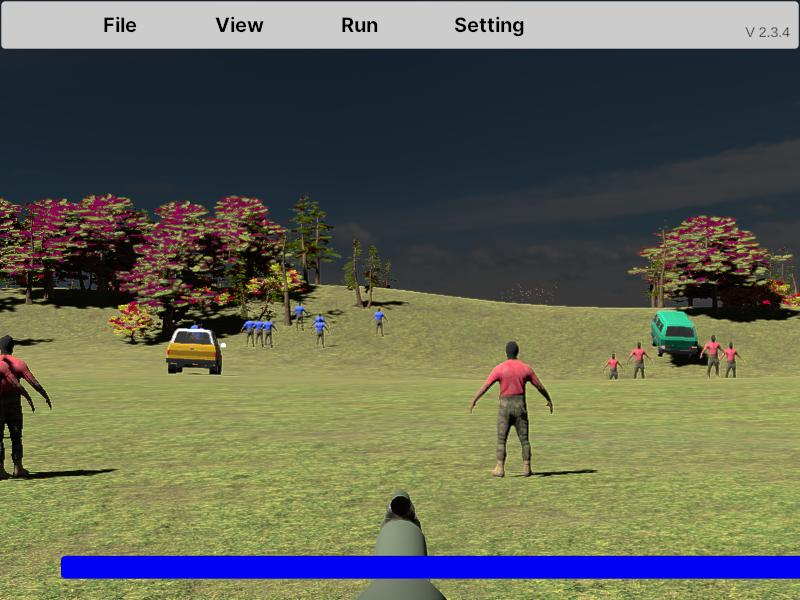Human: (470, 340, 552, 479), (0, 334, 52, 480), (701, 335, 725, 381)
car: (166, 325, 223, 376), (651, 310, 700, 363)
